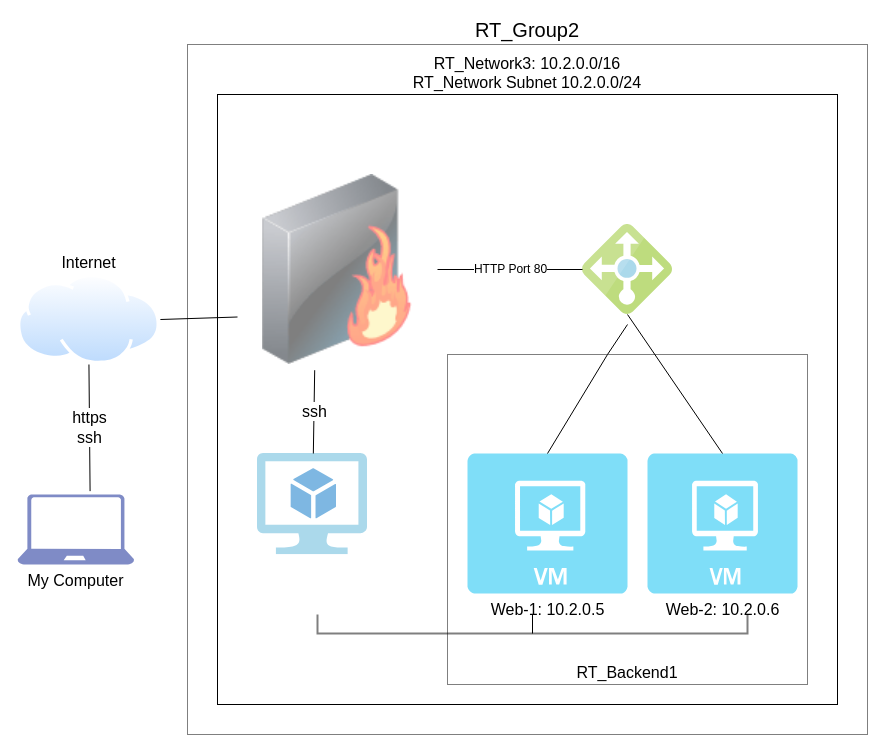
This 885x752 diagram has some shape labels left out. The centre of each missing label's shape, as x and y in pixels:
"external_internal_deny_any_any (Network Security Group)" belongs at pixel 337 269.
"Jump_Box_Provisioner docker/ansible 20.211.122.12 10.2.0.4" belongs at pixel 312 503.
"RT_LB 20.188.197.14" belongs at pixel 627 269.
"SSH DVWA Containers" belongs at pixel 532 623.
